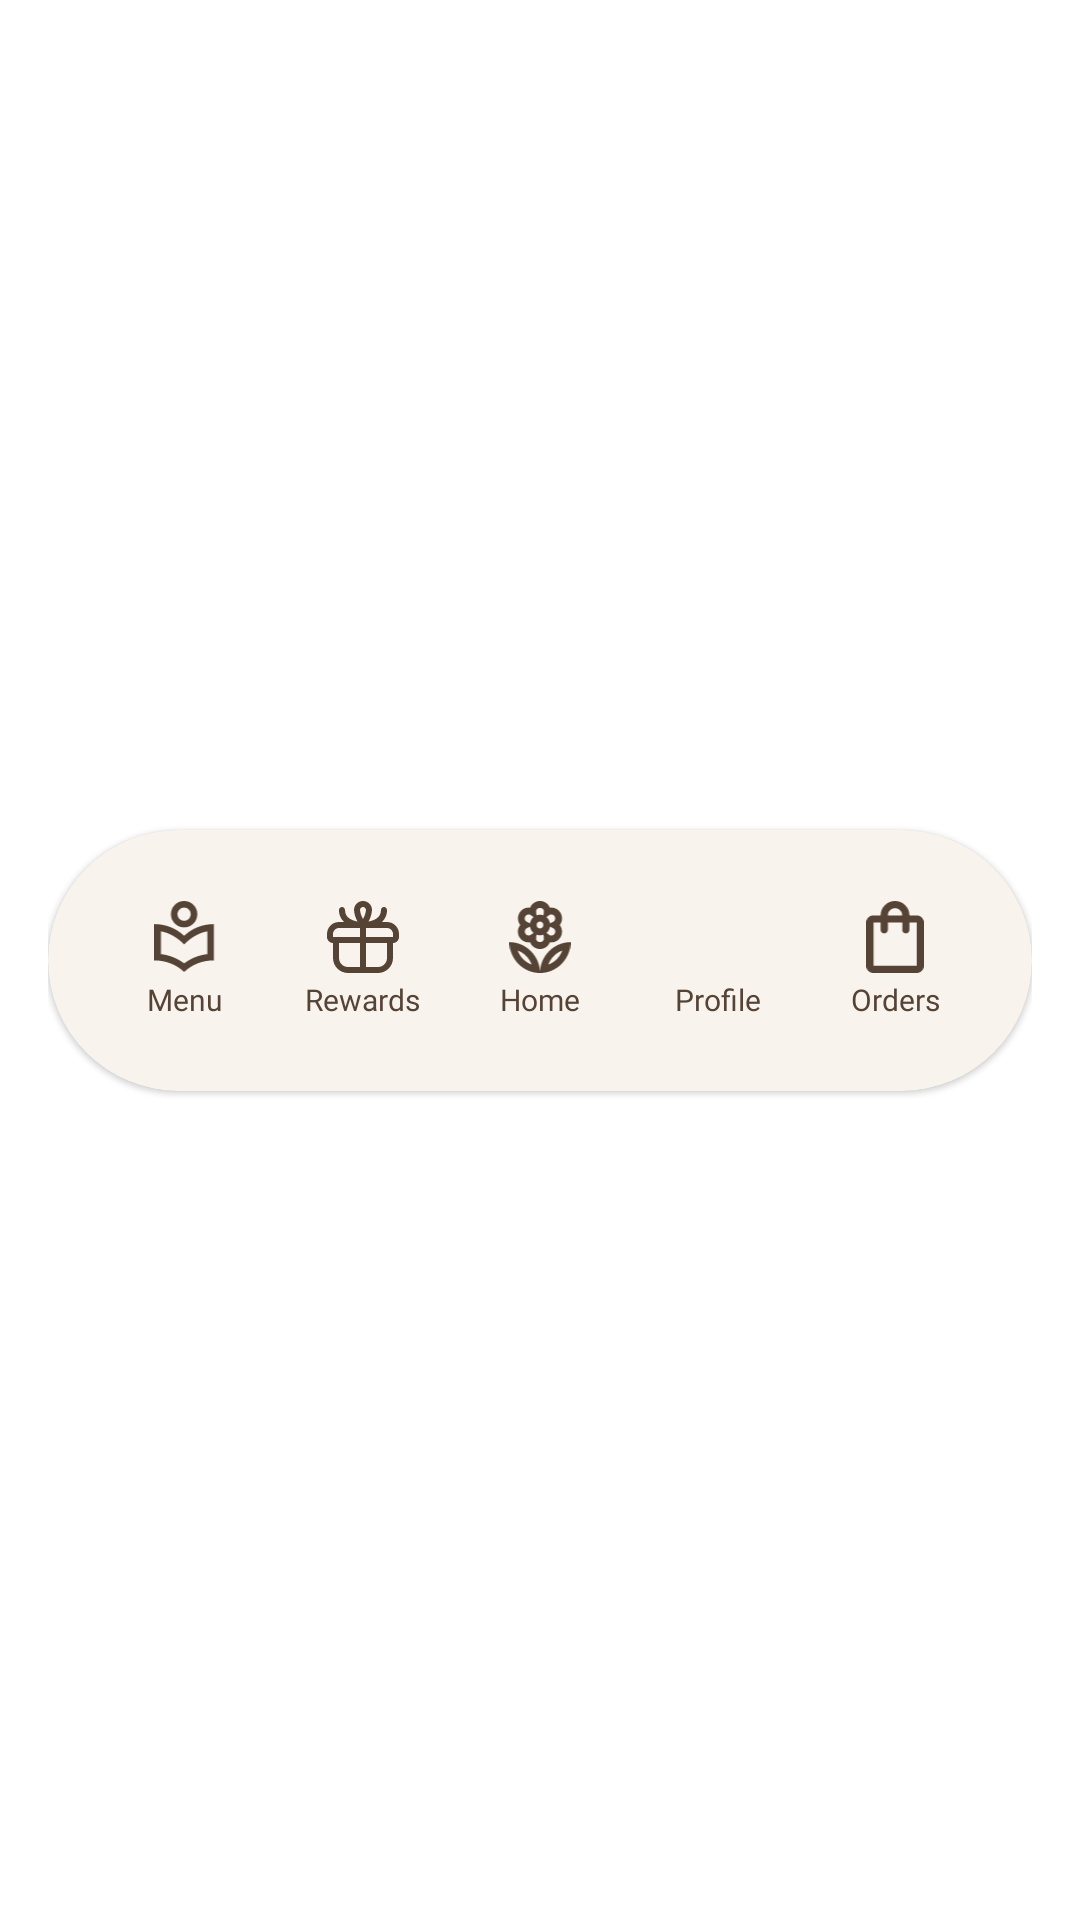

Icon click points for this 1080x1920 phone screenshot, format (x=x, y=y):
bag: (x=895, y=937)
gift: (x=363, y=937)
